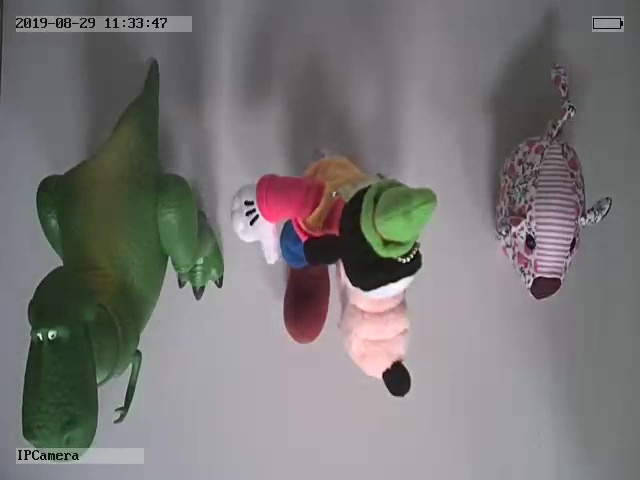goofy: (228, 155, 437, 399)
pig: (492, 66, 612, 298)
rex: (21, 56, 226, 447)
